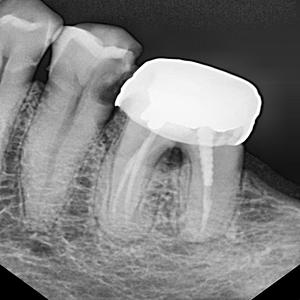tooth: (88, 60, 266, 244), (22, 26, 136, 232), (0, 5, 61, 214)
